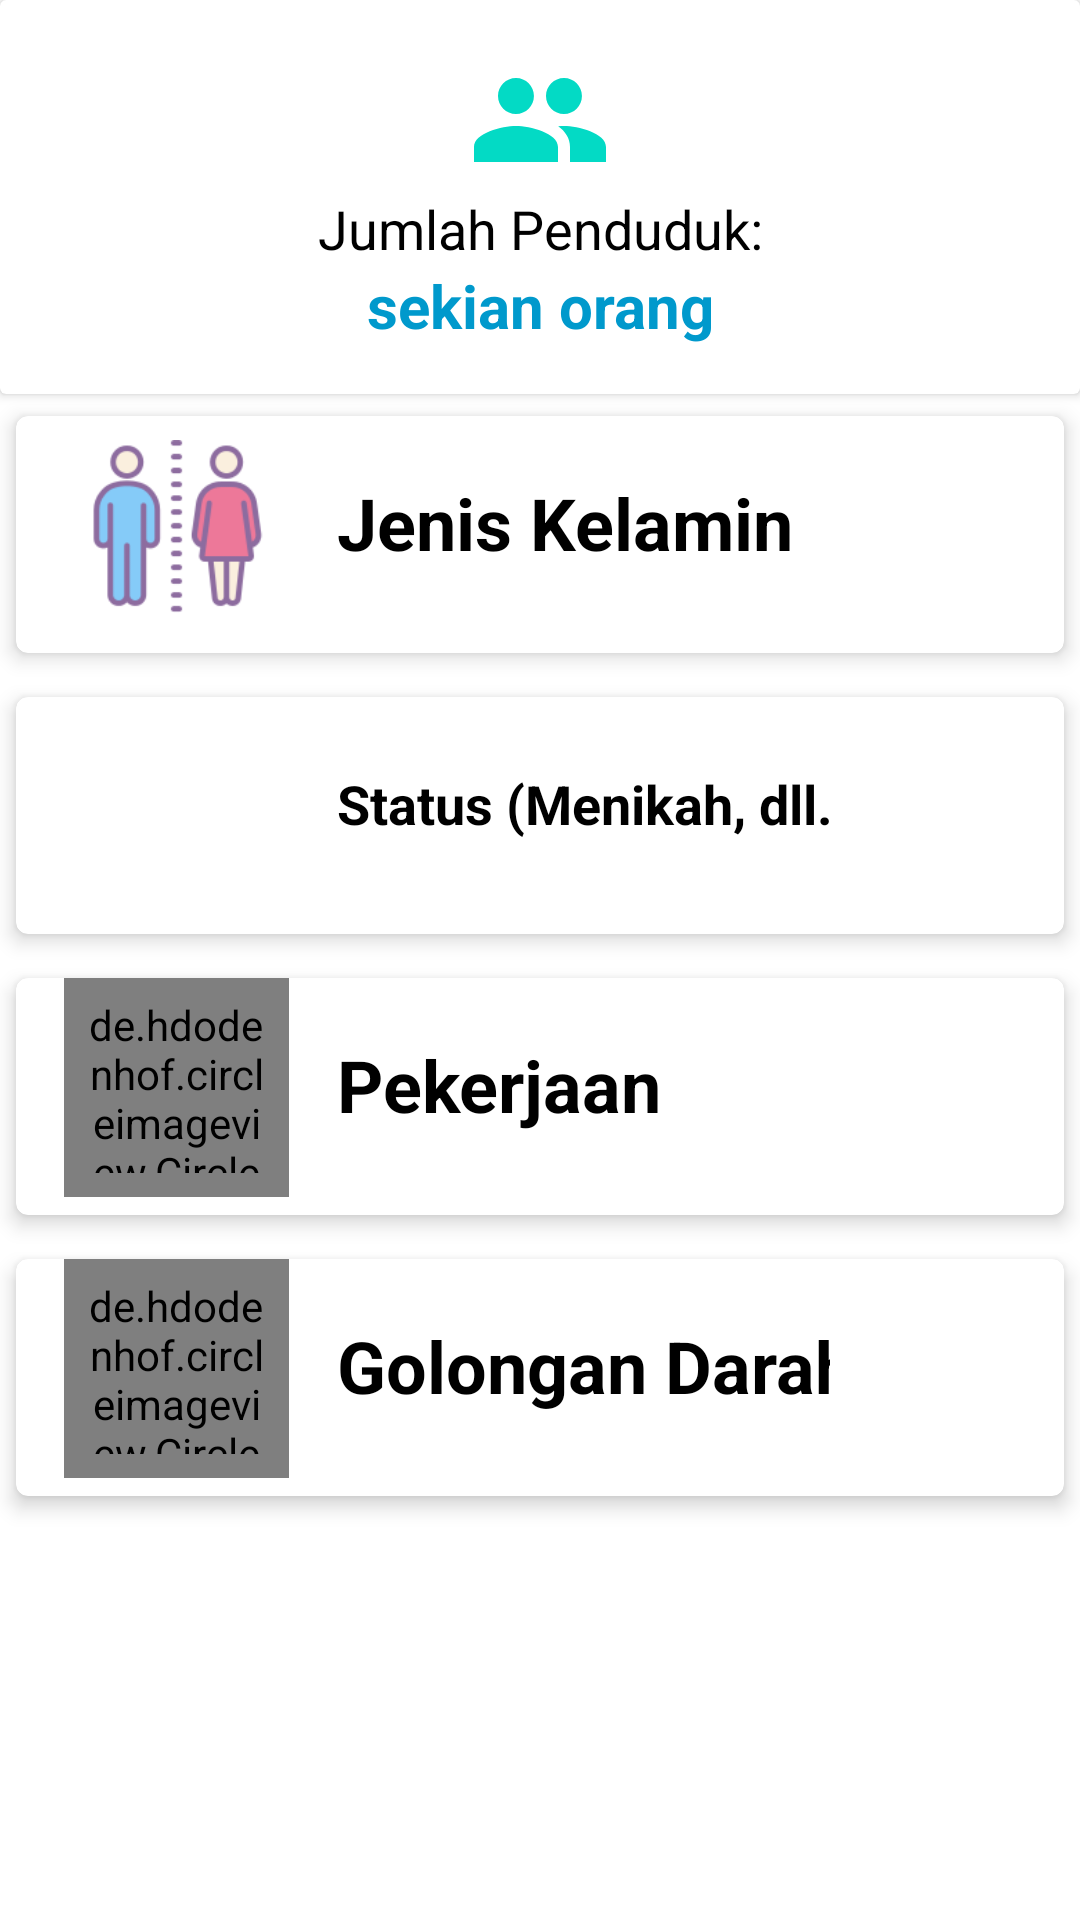

Icons on this 1080px x 1920px Android screen, each with the point to tap as (x,y):
people: (540,120)
toilet: (177,526)
